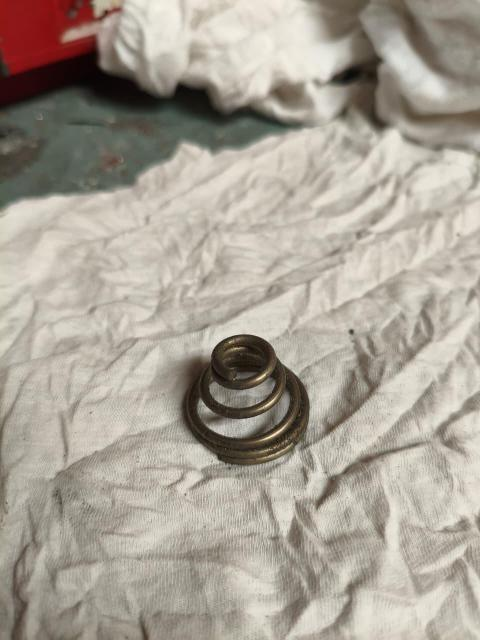Metal: (187, 330, 317, 463)
